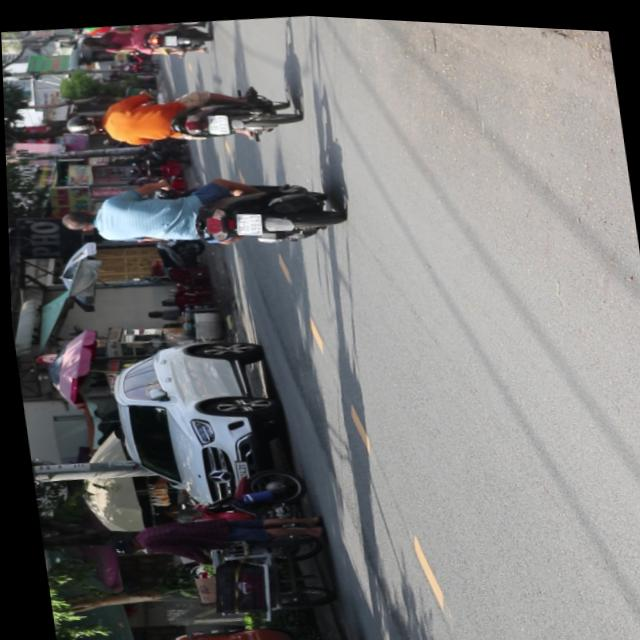helmet: (62, 111, 102, 139)
licenseplate: (50, 156, 345, 270), (57, 71, 300, 162)
motorcyclist: (55, 207, 95, 234)
nohelmet: (231, 209, 260, 235), (203, 111, 228, 133)
